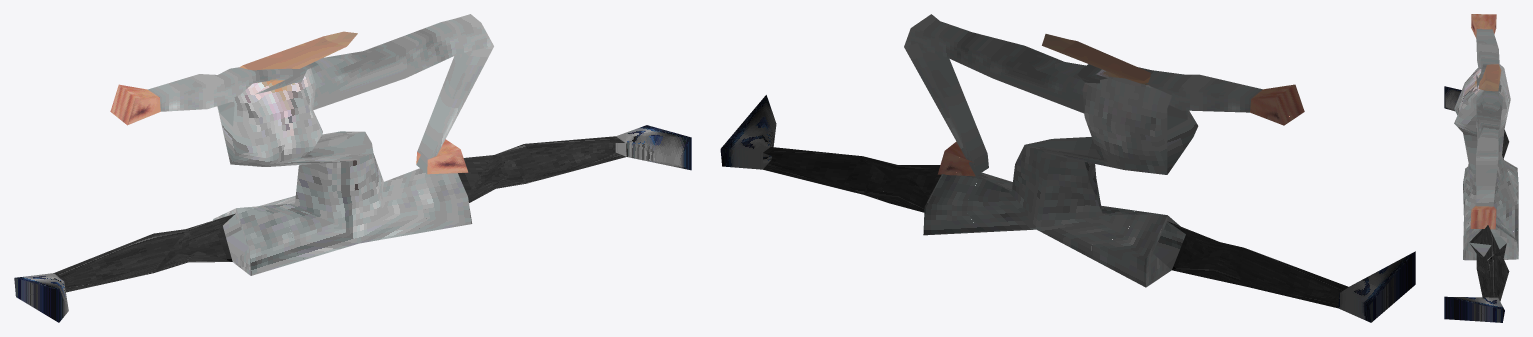
File: CtechwomanZ.obj
3 views of the same model, side by side, from view 1: azimuth 30°, elevation 25°; view 2: azimuth 150°, elevation 25°; view 3: azimuth 270°, elevation 25° (orthographic). The views are drawn at different scales.
Bounding box in the file's own units: 1989 × 610 × 299.
11 materials, 11 textured.
